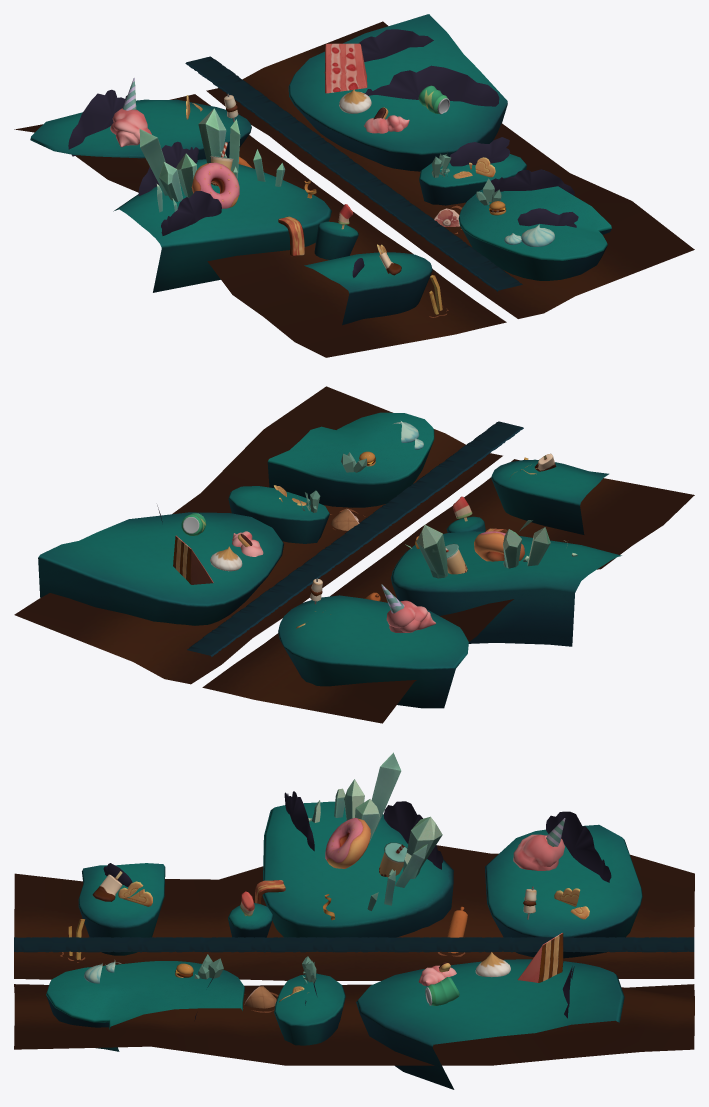
Rendered from stg3_B.gltf.
3 renders of one model, top to bottom at view 1: azimuth 30°, elevation 25°; view 2: azimuth 150°, elevation 25°; view 3: azimuth 270°, elevation 25°, orthographic. The views are drawn at different scales.
Parts seen in each view (by area): view 1: stg3_B_GEO; view 2: stg3_B_GEO; view 3: stg3_B_GEO.
Part boxes in pixels (x1,y1,x2,y2): stg3_B_GEO: (14,14,694,357); stg3_B_GEO: (14,386,694,723); stg3_B_GEO: (14,752,694,1089).
Size of the model in its own units: 16402 by 4610 by 20852.
